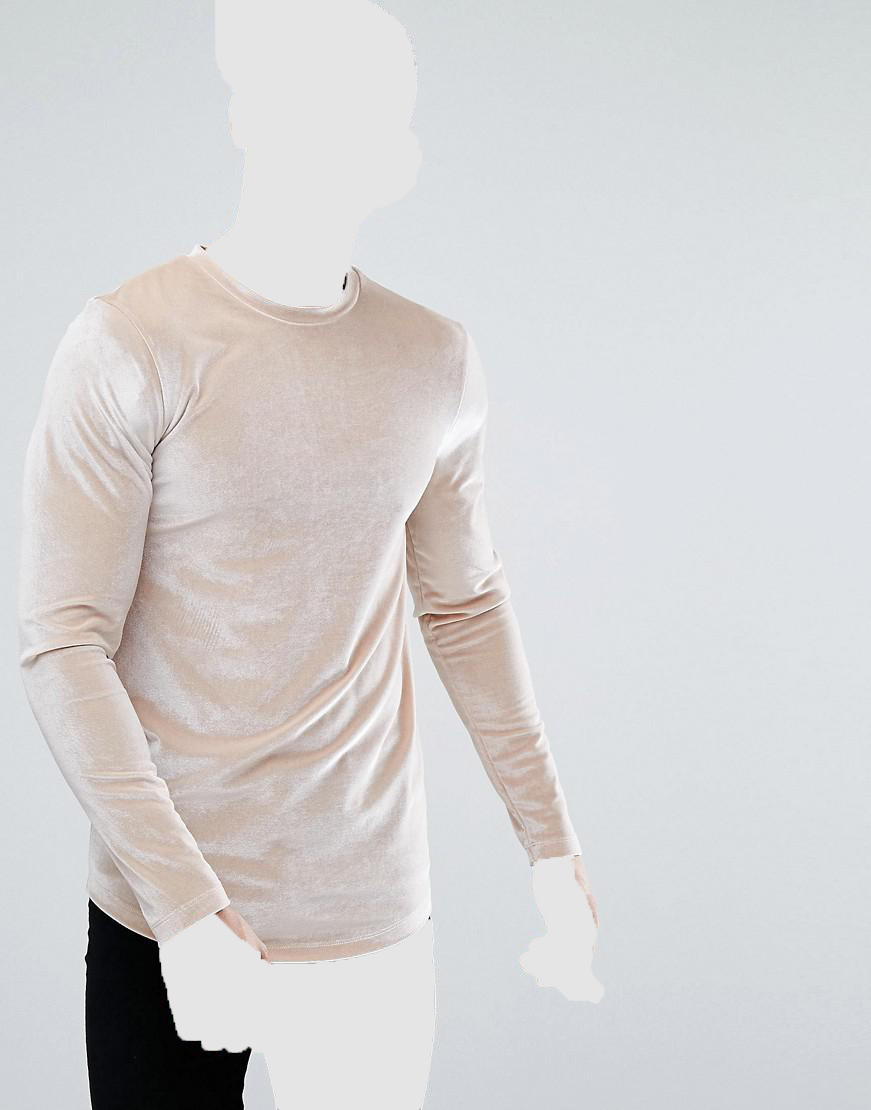teeshirt: (13, 244, 586, 942)
